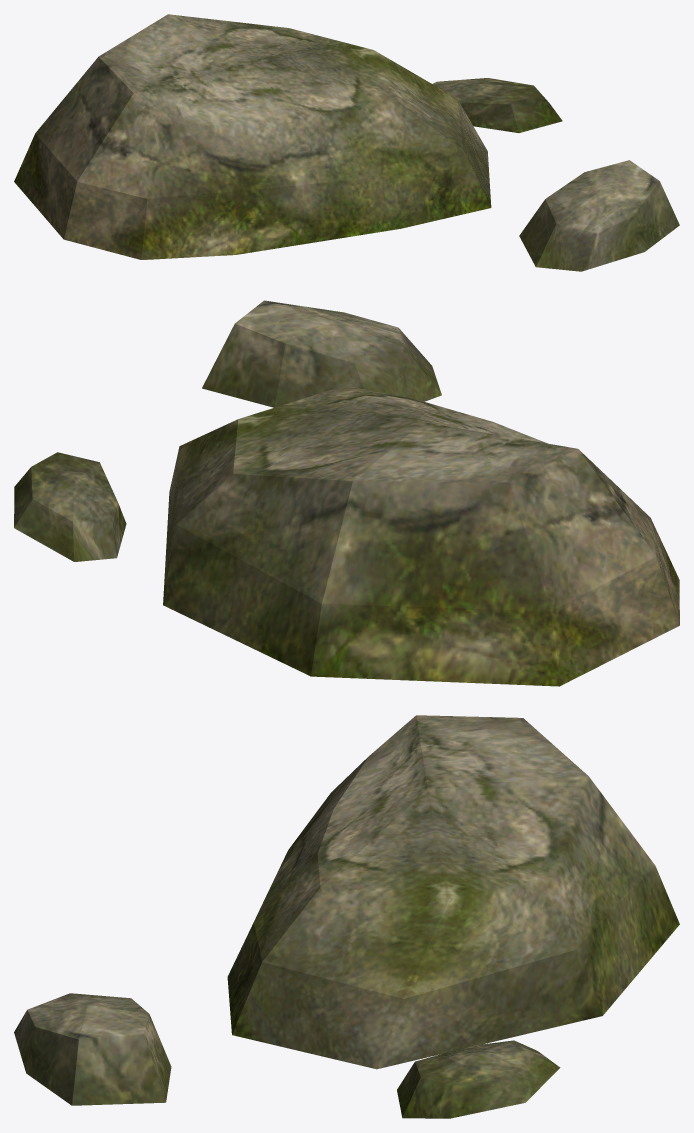
File: Youshuizhou_zhiwu_016_1.FBX
3 renders of one model, top to bottom at view 1: azimuth 30°, elevation 25°; view 2: azimuth 150°, elevation 25°; view 3: azimuth 270°, elevation 25°, orthographic. The views are drawn at different scales.
Parts seen in each view (by area): view 1: gy_st_yanshi001_lj1; view 2: gy_st_yanshi001_lj1; view 3: gy_st_yanshi001_lj1.
Part boxes in pixels (<box>): gy_st_yanshi001_lj1: <box>14,14,679,271</box>; gy_st_yanshi001_lj1: <box>14,300,679,686</box>; gy_st_yanshi001_lj1: <box>14,715,679,1118</box>.
Size of the model in its own units: 91.89 by 22.86 by 86.96.
